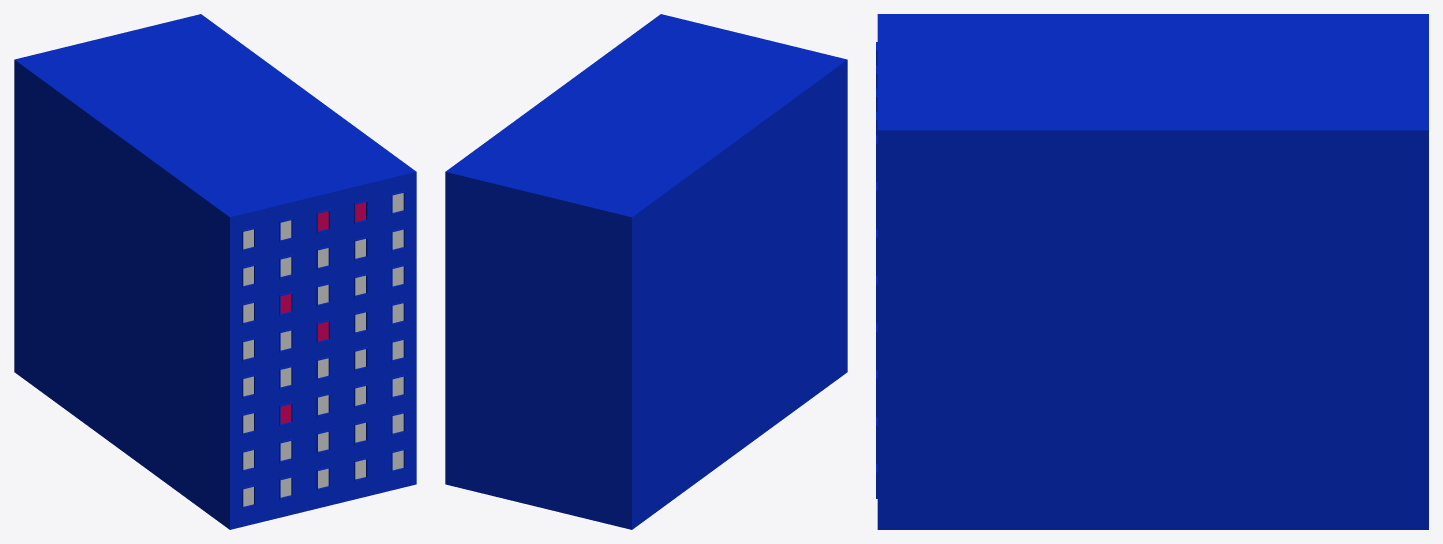
Rendered from Apartment.fbx.
The picture shows the model from 3 angles, left to right: view 1: azimuth 30°, elevation 25°; view 2: azimuth 150°, elevation 25°; view 3: azimuth 270°, elevation 25°; orthographic projection. The views are drawn at different scales.
Parts seen in each view (by area): view 1: Cube; view 2: Cube; view 3: Cube.
Part boxes in pixels (x1=…): Cube: x1=14, y1=14, x2=416, y2=529; Cube: x1=445, y1=14, x2=847, y2=529; Cube: x1=876, y1=14, x2=1428, y2=529.
Size of the model in its own units: 1500 by 2400 by 3009.
